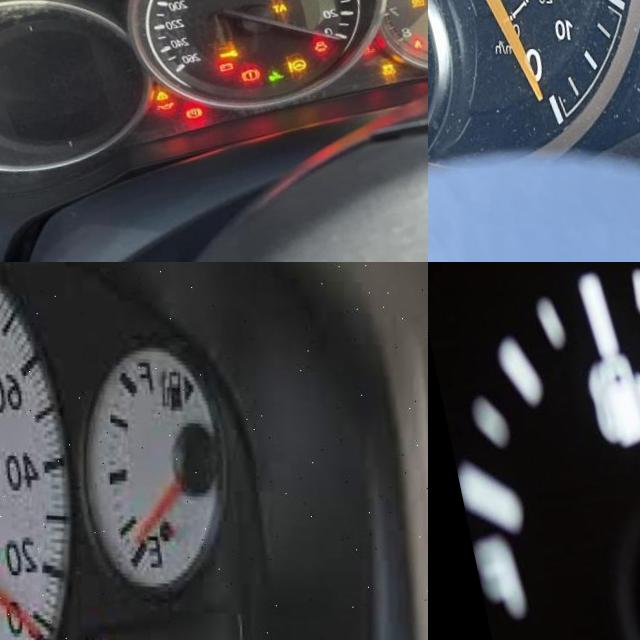Electronic Power Steering: (273, 69, 295, 86)
High Engine Coolant Temperature: (351, 59, 362, 69)
Seat Belt: (399, 55, 411, 67)
